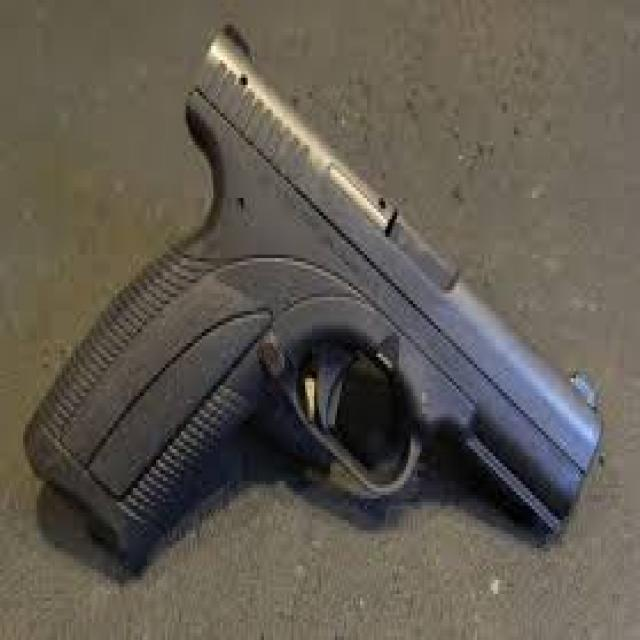Gun: (43, 18, 611, 580)
